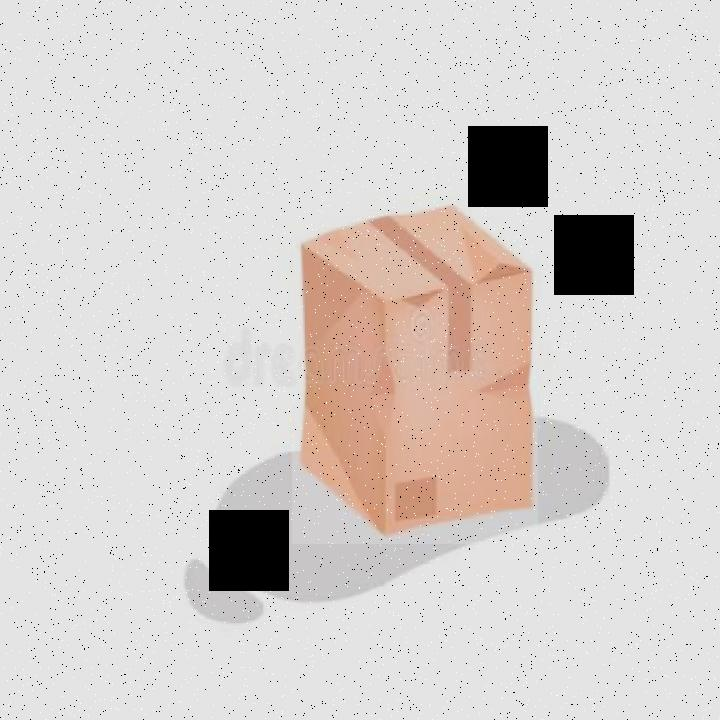box: (292, 202, 538, 544)
